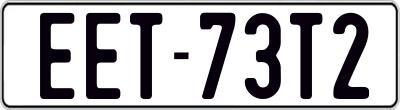2: (330, 12, 366, 98)
3: (244, 12, 282, 104)
7: (199, 13, 236, 104)
E: (38, 11, 76, 99), (85, 13, 122, 100)
T: (287, 12, 323, 103), (129, 11, 163, 102)
